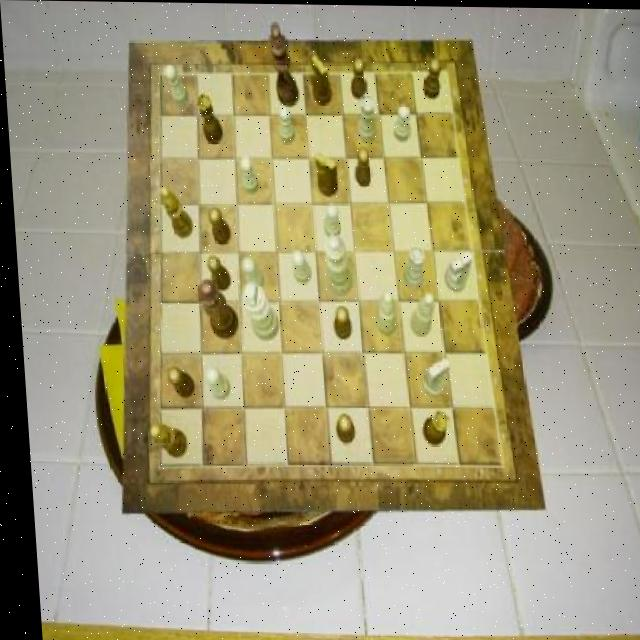bishop: (158, 186, 191, 239), (142, 423, 181, 457)
black-bishop: (266, 22, 298, 106)
black-king: (308, 54, 330, 105), (312, 151, 335, 195)
black-knight: (203, 254, 228, 289), (205, 207, 228, 245), (162, 366, 190, 397), (421, 59, 442, 99), (351, 147, 370, 186), (348, 58, 366, 99), (328, 305, 347, 339), (330, 413, 350, 442)
black-pawn: (192, 279, 235, 340)
black-queen: (194, 93, 220, 144), (416, 409, 445, 445)
black-rook: (404, 292, 431, 336), (369, 289, 391, 335)
white-bishop: (237, 281, 276, 339)
white-king: (439, 250, 471, 292), (415, 357, 447, 397)
white-knight: (163, 65, 188, 107), (199, 367, 224, 401), (239, 257, 262, 291), (390, 103, 410, 141), (237, 155, 256, 193), (275, 105, 293, 144), (319, 202, 338, 237), (288, 249, 307, 283)
white-pawn: (319, 233, 349, 295)
white-queen: (352, 94, 375, 143), (397, 243, 422, 288)
